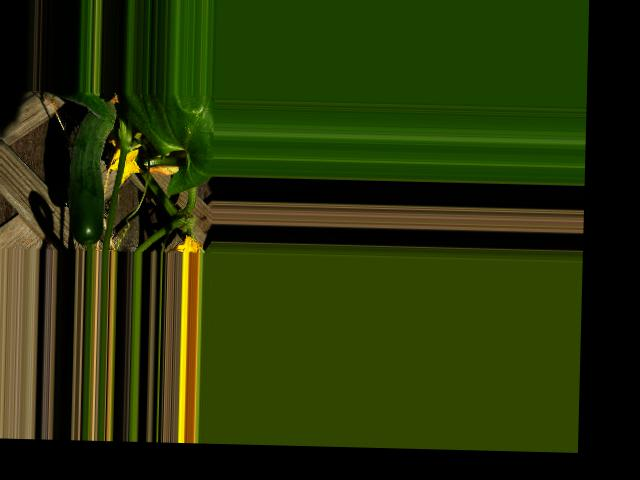cucumber: (66, 92, 116, 244)
